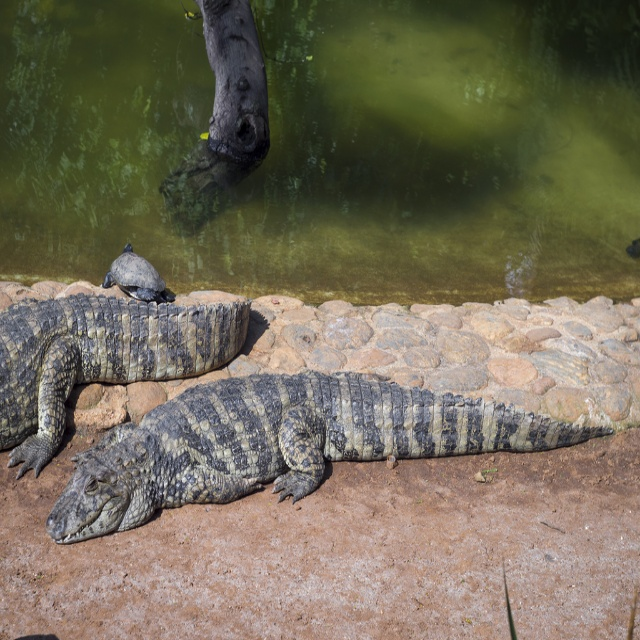Crocodile: (45, 370, 612, 539), (0, 291, 251, 478)
